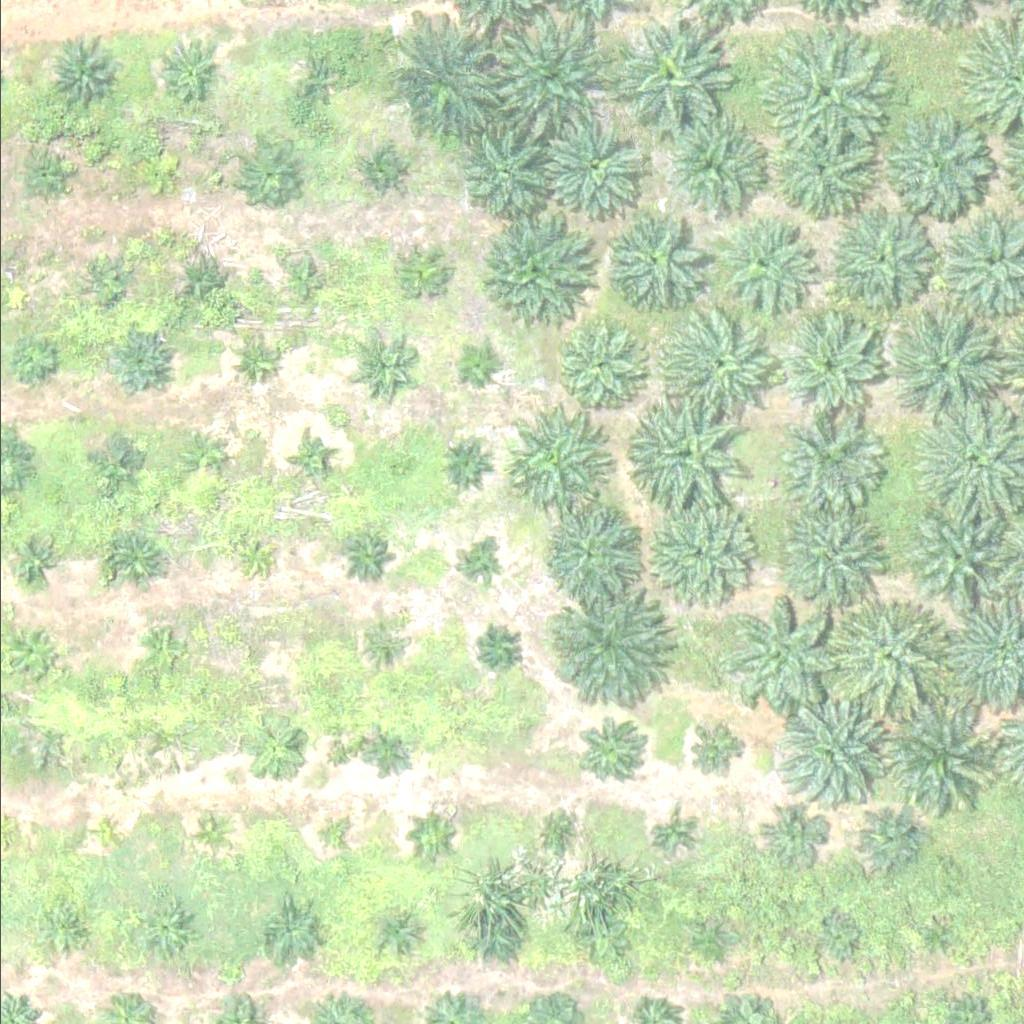Kelapa_Sawit: (872, 98, 998, 223), (876, 305, 1002, 430), (861, 700, 987, 825), (622, 394, 748, 519), (656, 302, 782, 427), (761, 27, 887, 152), (491, 12, 617, 137), (380, 20, 506, 145), (542, 590, 667, 715), (472, 211, 586, 324), (727, 602, 840, 715), (641, 491, 754, 604), (542, 112, 656, 224), (622, 22, 736, 134), (767, 699, 880, 811), (832, 603, 945, 715), (491, 400, 604, 512), (542, 501, 643, 601), (777, 507, 878, 607), (778, 406, 879, 506), (775, 316, 876, 416), (548, 315, 649, 415), (828, 204, 929, 304), (712, 216, 813, 316), (779, 118, 880, 218), (604, 208, 704, 308), (665, 121, 765, 221), (457, 130, 545, 218), (907, 511, 996, 598), (44, 34, 120, 109), (576, 714, 651, 789), (343, 332, 406, 395), (389, 238, 452, 301), (260, 904, 323, 967), (107, 334, 170, 397), (130, 900, 193, 963), (460, 905, 523, 968), (761, 801, 824, 864), (859, 811, 922, 874), (272, 249, 335, 312), (234, 142, 297, 204), (155, 42, 218, 104), (103, 529, 166, 591), (2, 623, 65, 685), (242, 719, 305, 781), (285, 46, 348, 108), (368, 909, 419, 959), (98, 439, 149, 489), (176, 259, 227, 309), (683, 728, 734, 778), (574, 916, 625, 966), (233, 335, 284, 385), (82, 260, 133, 310), (355, 139, 406, 189), (136, 148, 187, 198), (9, 336, 60, 386), (9, 534, 60, 584), (441, 439, 491, 489), (343, 533, 393, 583), (42, 903, 92, 953), (364, 729, 414, 779), (139, 629, 189, 679), (179, 432, 229, 482), (446, 340, 496, 390), (16, 154, 66, 204), (411, 823, 449, 861), (483, 630, 521, 668), (820, 916, 858, 954), (918, 920, 956, 958), (694, 923, 732, 961), (310, 816, 348, 854), (191, 814, 229, 852), (84, 816, 122, 854), (237, 538, 275, 576), (292, 441, 330, 479), (457, 547, 495, 584), (359, 624, 397, 661), (230, 636, 268, 673), (650, 814, 687, 851), (540, 818, 577, 855)
